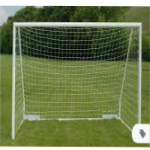goals: (11, 19, 143, 141)
